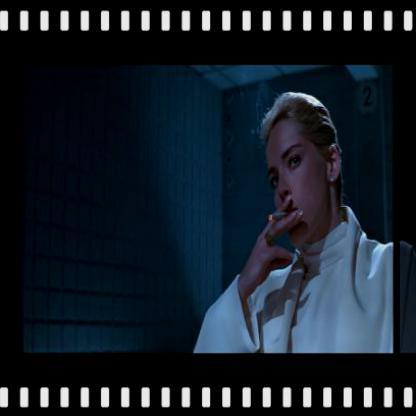cigarette: (266, 211, 294, 222)
person: (247, 97, 394, 354)
